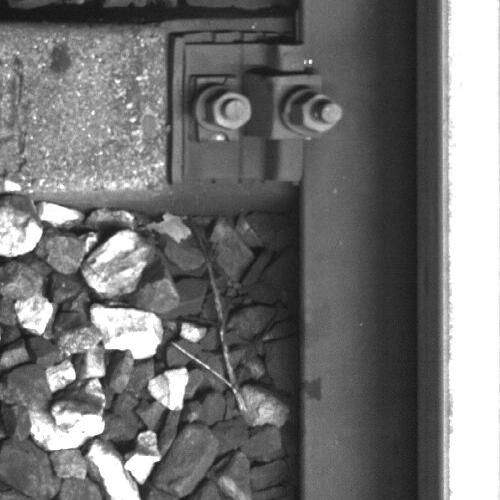kb: (183, 45, 345, 183)
nut: (291, 92, 343, 136), (208, 90, 251, 129)
rail: (441, 1, 500, 500)
tie_concr: (1, 23, 295, 184)
